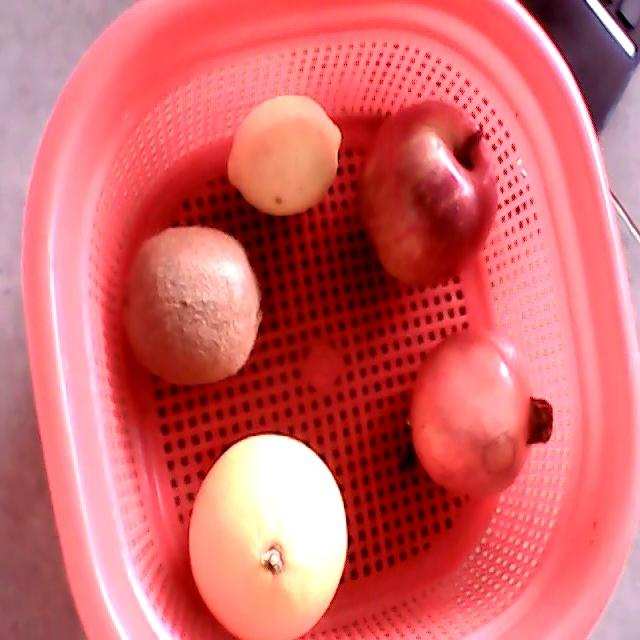apple: (360, 99, 499, 290)
kiwi: (117, 225, 262, 383)
lemon: (228, 94, 343, 216)
orange: (187, 434, 349, 630)
pomegranate: (410, 332, 554, 497)
